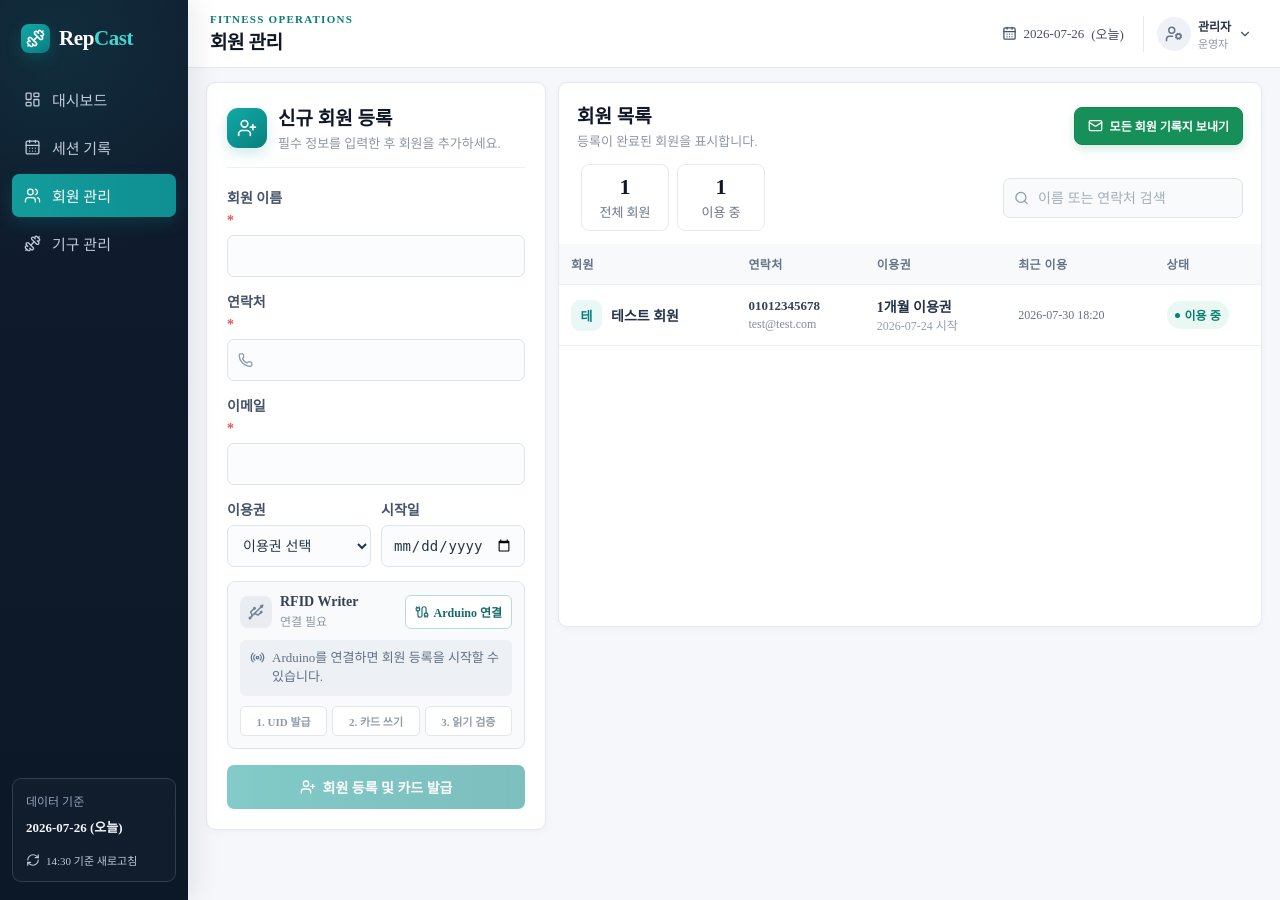
Test: /members에서 모든 회원에게 기록지를 발송한다
Click the button "모든 회원 기록지 보내기". click: (1158, 126)
box: [1074, 106, 1243, 144]
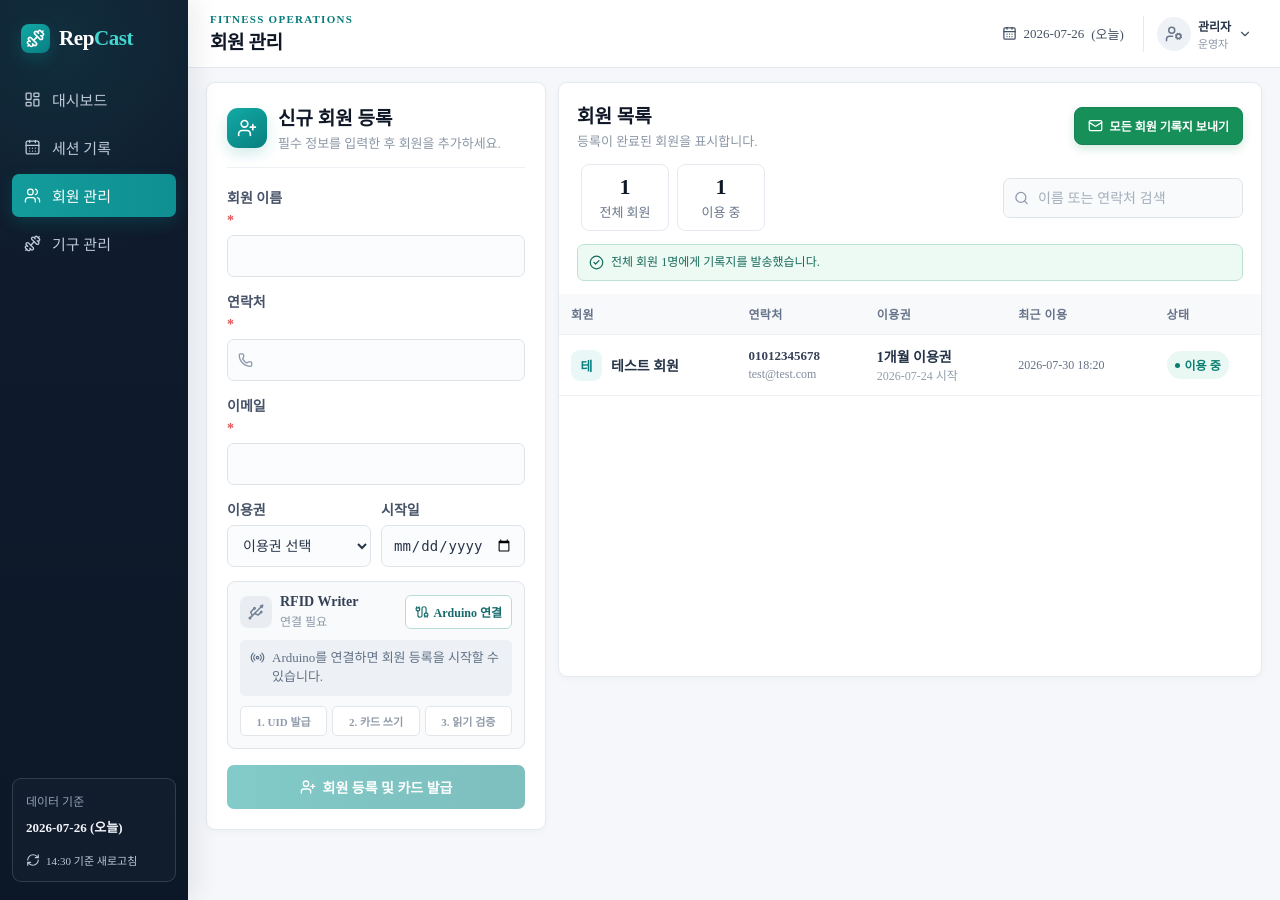
Expected: the text "전체 회원 1명에게 기록지를 발송했습니다." is shown, [611, 254, 820, 271]
